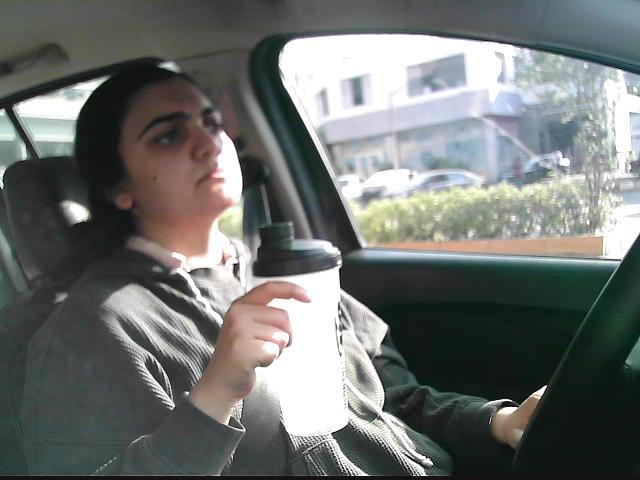Drinking: (249, 218, 355, 439)
